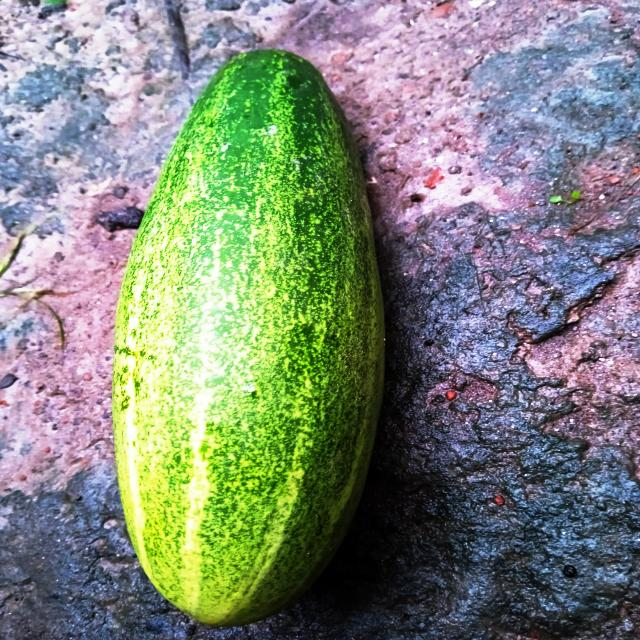Fresh-Cucumber: (111, 38, 387, 632)
